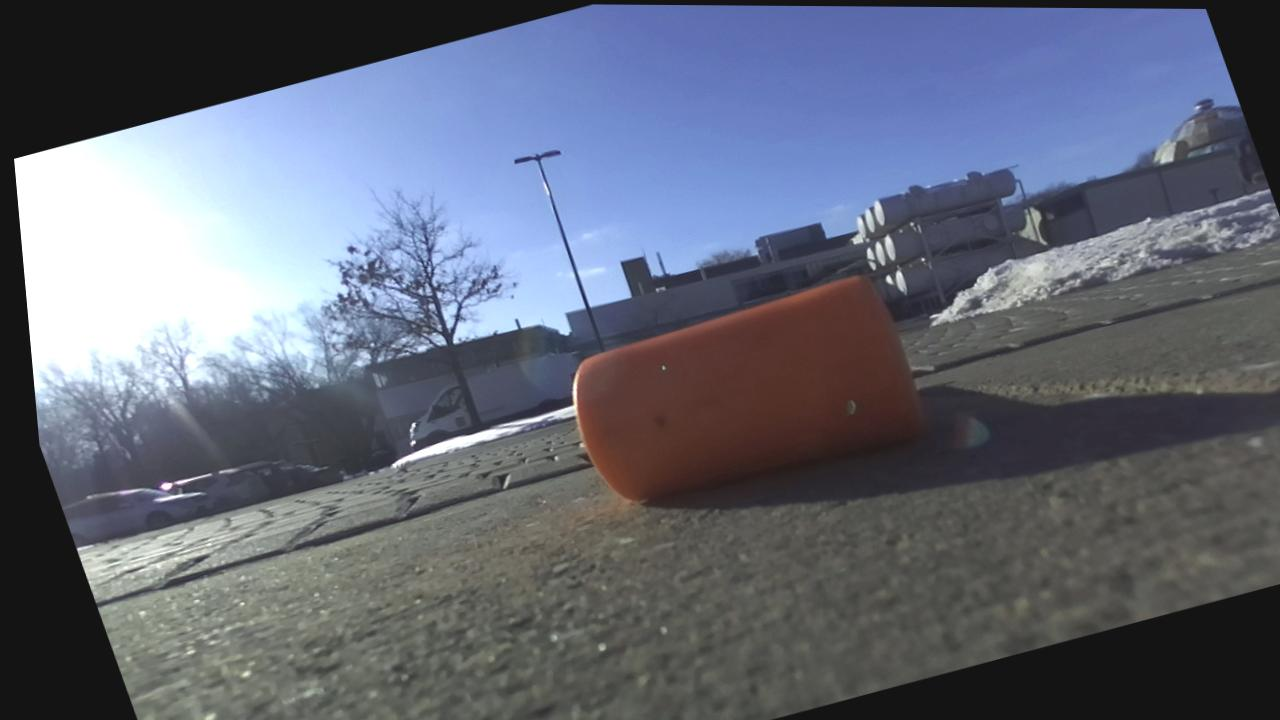mallet: (574, 278, 925, 501)
